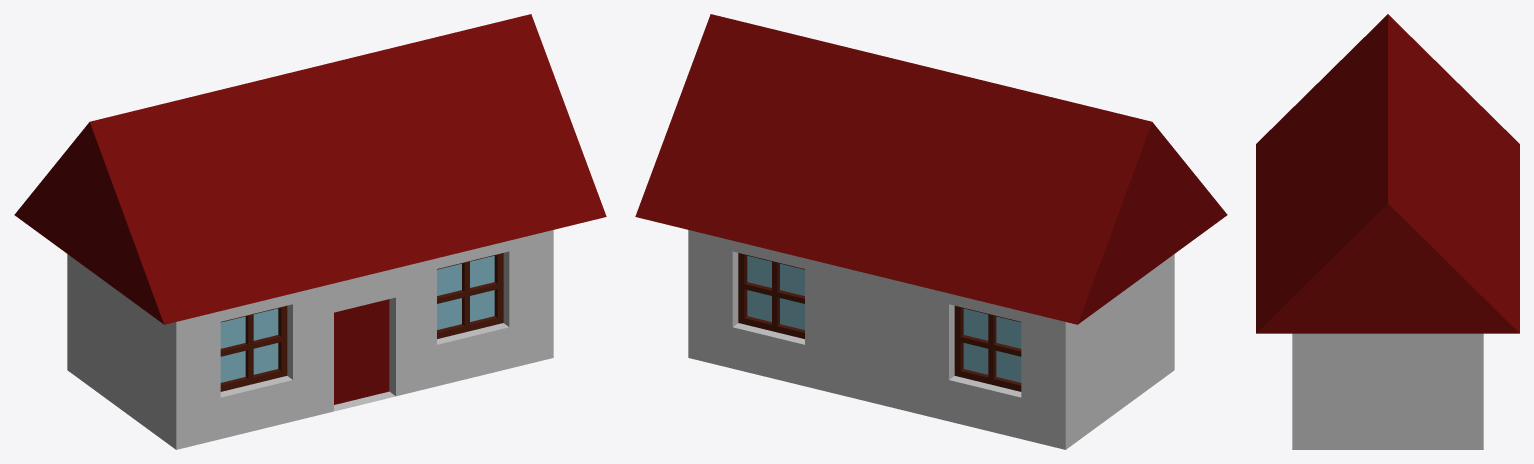
File: house.obj
3 views of the same model, side by side, from view 1: azimuth 30°, elevation 25°; view 2: azimuth 150°, elevation 25°; view 3: azimuth 270°, elevation 25° (orthographic). The views are drawn at different scales.
Visible parts, largest first — view 1: base, window; view 2: base, window; view 3: base.
Boxes of the visible parts, x1=… form: base: x1=14, y1=14, x2=606, y2=449; window: x1=220, y1=253, x2=503, y2=391; base: x1=635, y1=14, x2=1227, y2=449; window: x1=738, y1=253, x2=1021, y2=391; base: x1=1256, y1=14, x2=1519, y2=449.
Size of the model in its own units: 9.38 by 6 by 5.51.
